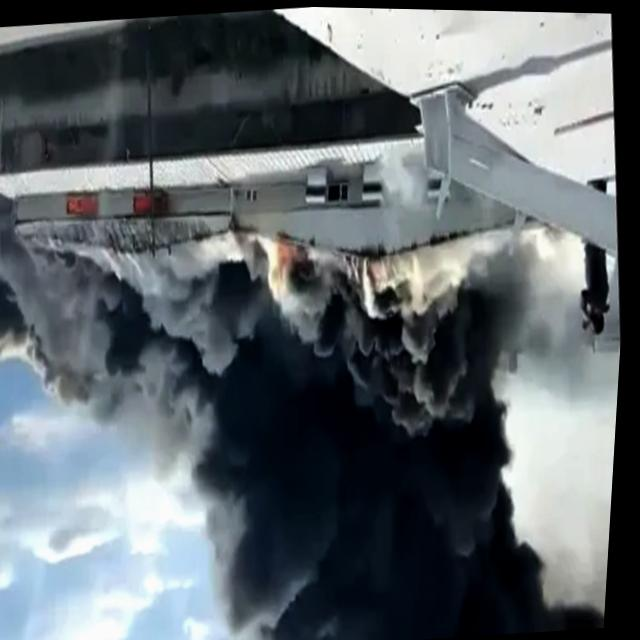no_helmet: (0, 222, 630, 640)
